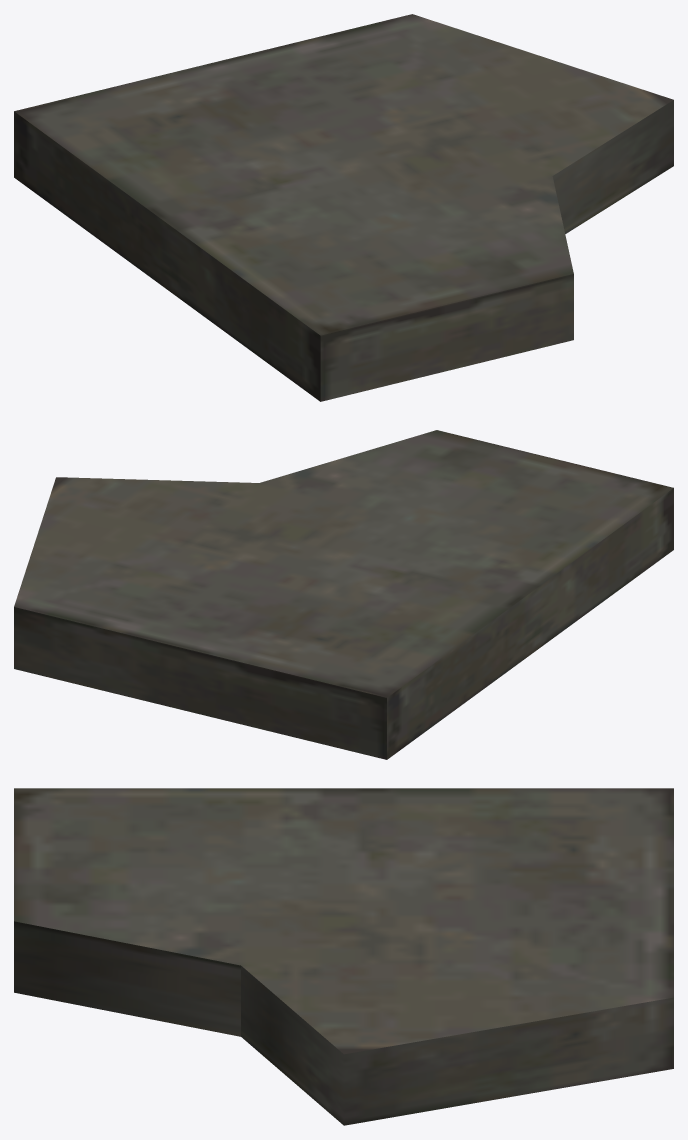
Rendered from environment_stone_dizhuan_001_d.FBX.
The picture shows the model from 3 angles, top to bottom: view 1: azimuth 30°, elevation 25°; view 2: azimuth 150°, elevation 25°; view 3: azimuth 270°, elevation 25°; orthographic projection. The views are drawn at different scales.
Visible parts, largest first — view 1: environment_stone_dizhuan_001_d; view 2: environment_stone_dizhuan_001_d; view 3: environment_stone_dizhuan_001_d.
Part boxes in pixels (box(x1,y1,x2,y2)): environment_stone_dizhuan_001_d: box(14, 14, 673, 401); environment_stone_dizhuan_001_d: box(14, 430, 673, 759); environment_stone_dizhuan_001_d: box(14, 788, 673, 1125).
Size of the model in its own units: 80.92 by 10.11 by 84.8.
